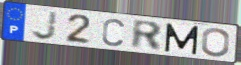2: (66, 13, 92, 45)
C: (101, 17, 126, 48)
J: (30, 10, 59, 41)
M: (164, 22, 201, 56)
O: (200, 27, 232, 58)
R: (130, 18, 164, 53)
